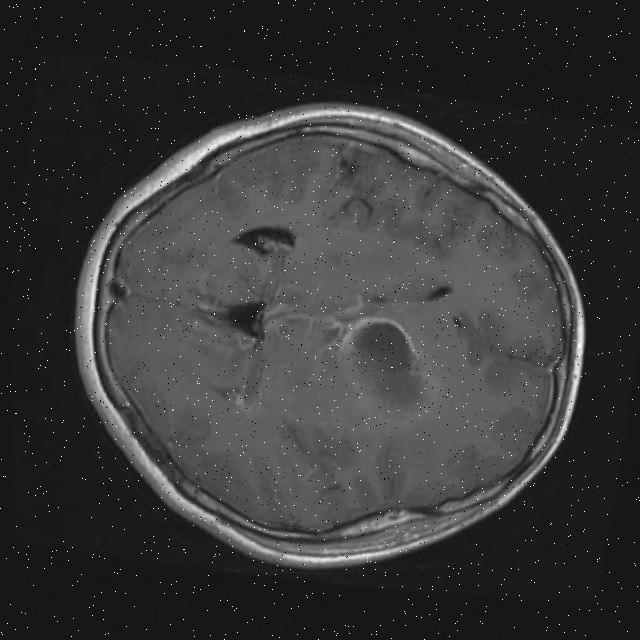Glioma: (325, 307, 449, 432)
